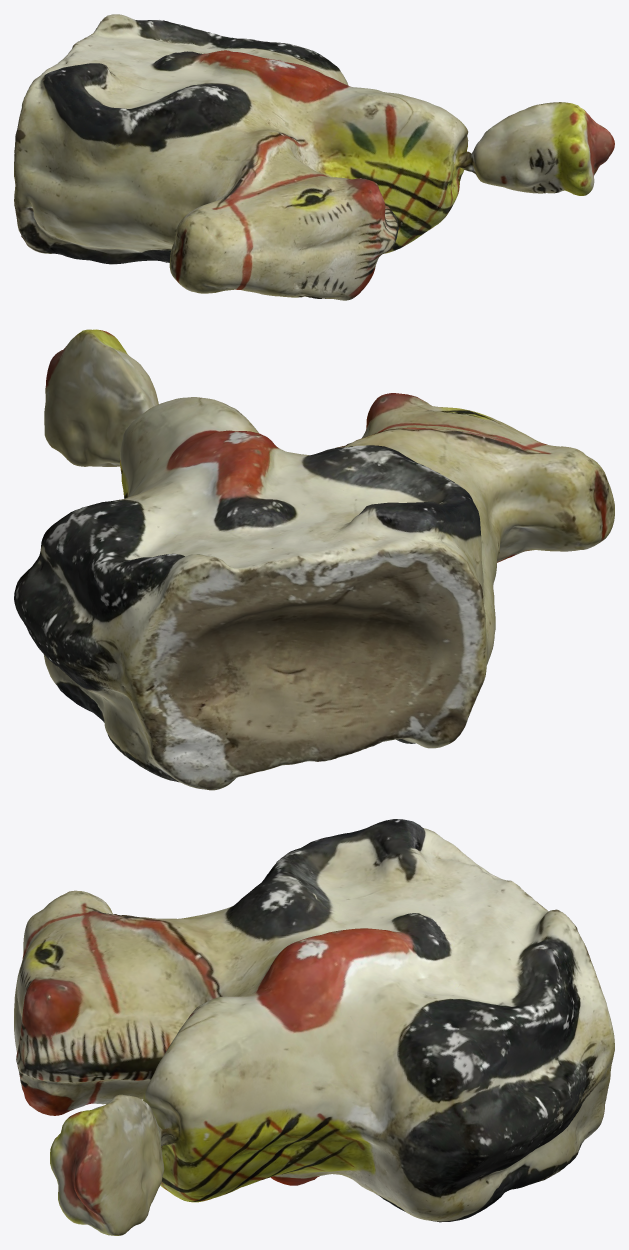
3 renders of one model, top to bottom at view 1: azimuth 30°, elevation 25°; view 2: azimuth 150°, elevation 25°; view 3: azimuth 270°, elevation 25°, orthographic. The views are drawn at different scales.
Size of the model in its own units: 0.7757 by 0.3163 by 0.6765.
Materials: 1 (1 with a texture image).
